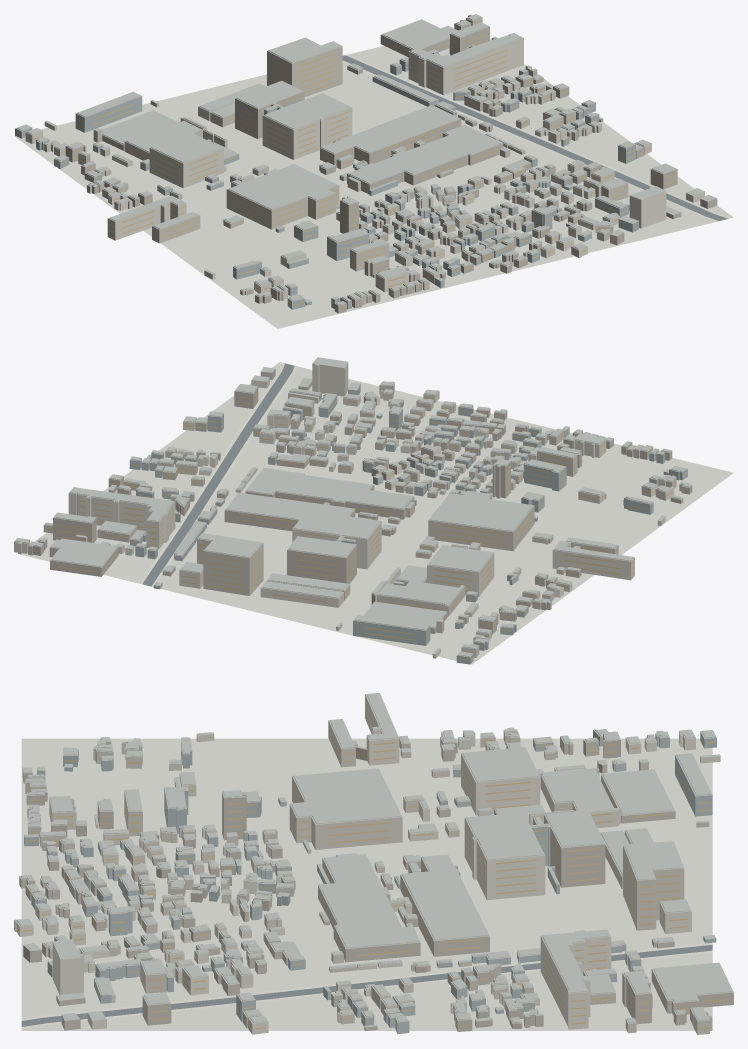
3 views of the same model, one above another, from view 1: azimuth 30°, elevation 25°; view 2: azimuth 150°, elevation 25°; view 3: azimuth 270°, elevation 25° (orthographic). The views are drawn at different scales.
Parts seen in each view (by area): view 1: city; view 2: city; view 3: city.
Boxes of the visible parts, x1=… form: city: x1=14, y1=14, x2=733, y2=328; city: x1=14, y1=357, x2=733, y2=664; city: x1=14, y1=693, x2=733, y2=1034.
Size of the model in its own units: 543 by 40.4 by 521.
